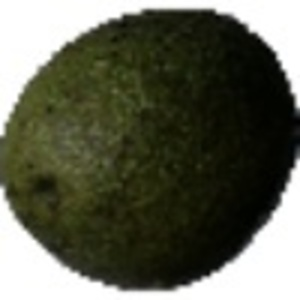abacate: (3, 3, 297, 297)
